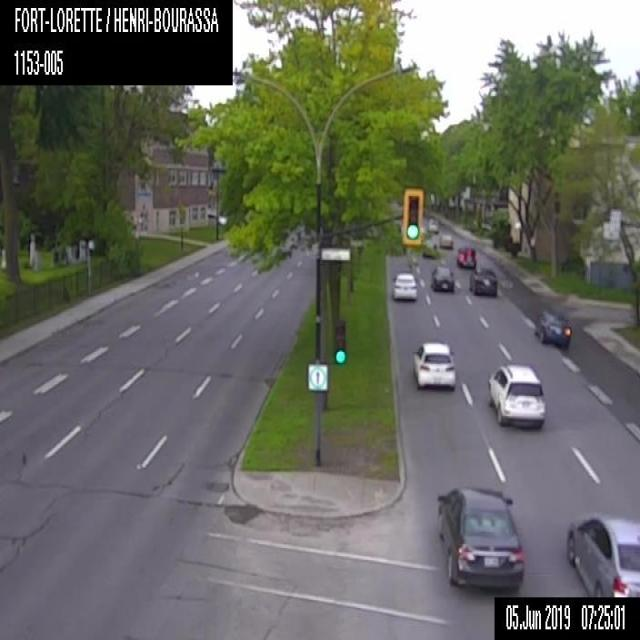vehicle: (434, 482, 524, 590), (564, 509, 639, 596), (486, 359, 546, 429), (411, 337, 457, 391), (532, 305, 572, 348), (469, 264, 496, 297), (390, 268, 416, 301), (427, 263, 454, 292), (457, 245, 475, 265), (439, 232, 452, 245), (428, 218, 439, 232)
